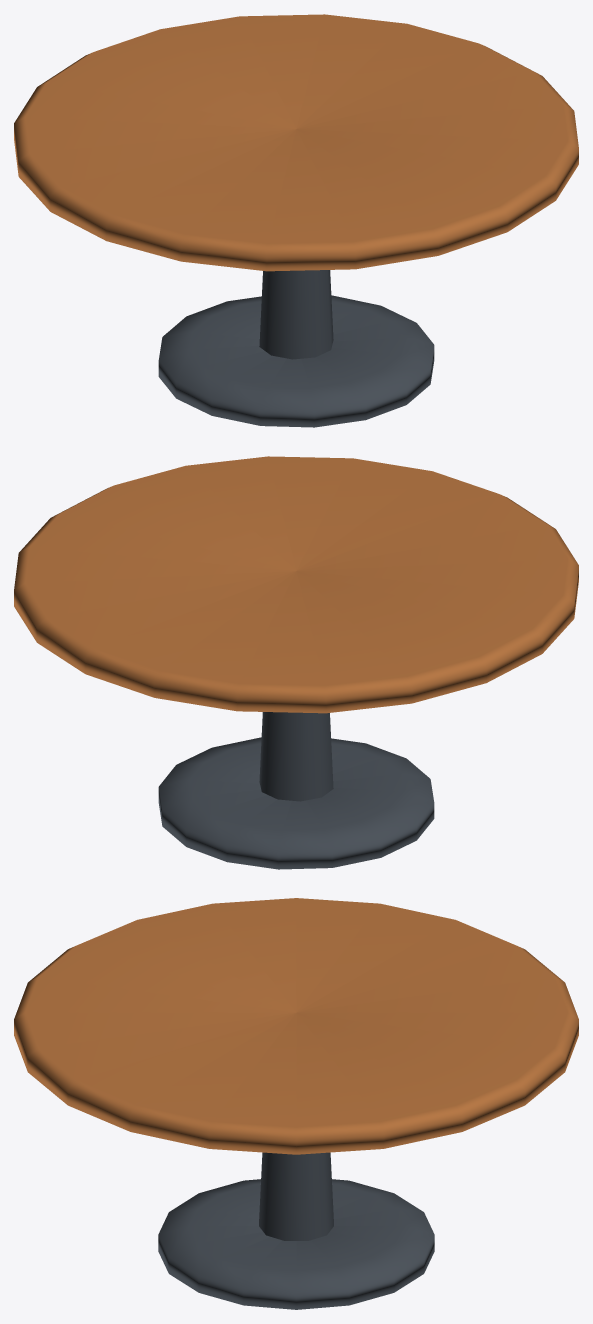
Rendered from roundcoffeetable-lite.glb.
The picture shows the model from 3 angles, top to bottom: view 1: azimuth 30°, elevation 25°; view 2: azimuth 150°, elevation 25°; view 3: azimuth 270°, elevation 25°; orthographic projection.
Parts seen in each view (by area): view 1: material-0-top, material-2-base, material-1-body; view 2: material-0-top, material-2-base, material-1-body; view 3: material-0-top, material-2-base, material-1-body.
Part boxes in pixels (<box>): material-0-top: <box>14,14,578,271</box>; material-2-base: <box>158,295,434,427</box>; material-1-body: <box>259,270,333,359</box>; material-0-top: <box>14,456,578,713</box>; material-2-base: <box>158,737,434,869</box>; material-1-body: <box>259,712,333,801</box>; material-0-top: <box>14,898,578,1154</box>; material-2-base: <box>158,1179,434,1309</box>; material-1-body: <box>259,1152,333,1240</box>.
Bounding box in the file's own units: 0.9 × 0.42 × 0.9.
